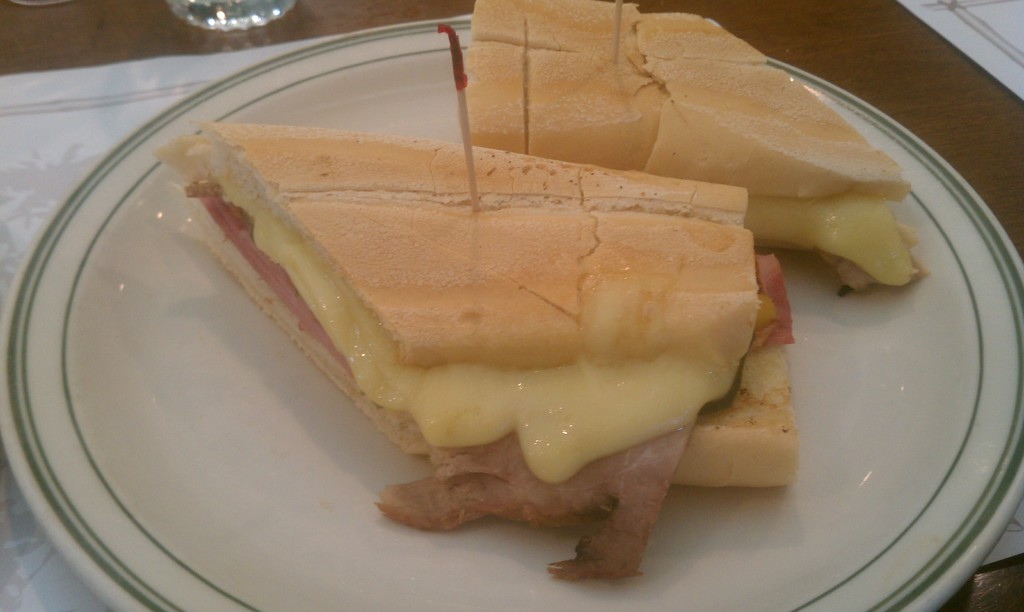sandwich: (145, 115, 797, 574), (458, 0, 920, 297)
